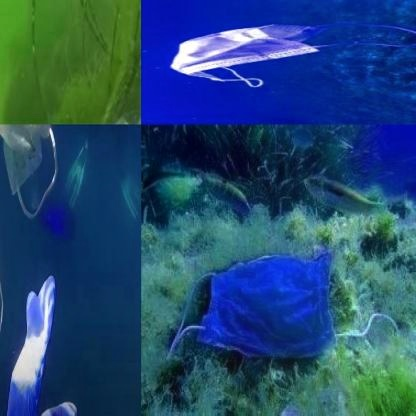Mask: (163, 248, 403, 362), (168, 24, 415, 87), (0, 125, 59, 220), (0, 229, 3, 357)
glove: (6, 278, 79, 415)
